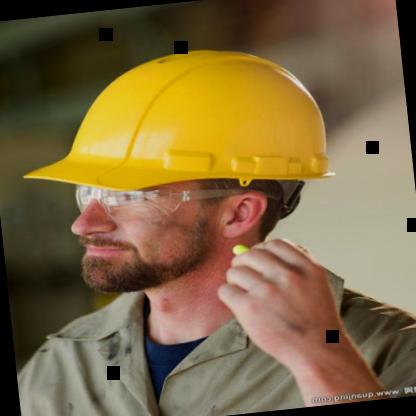helmet: (0, 3, 382, 330)
